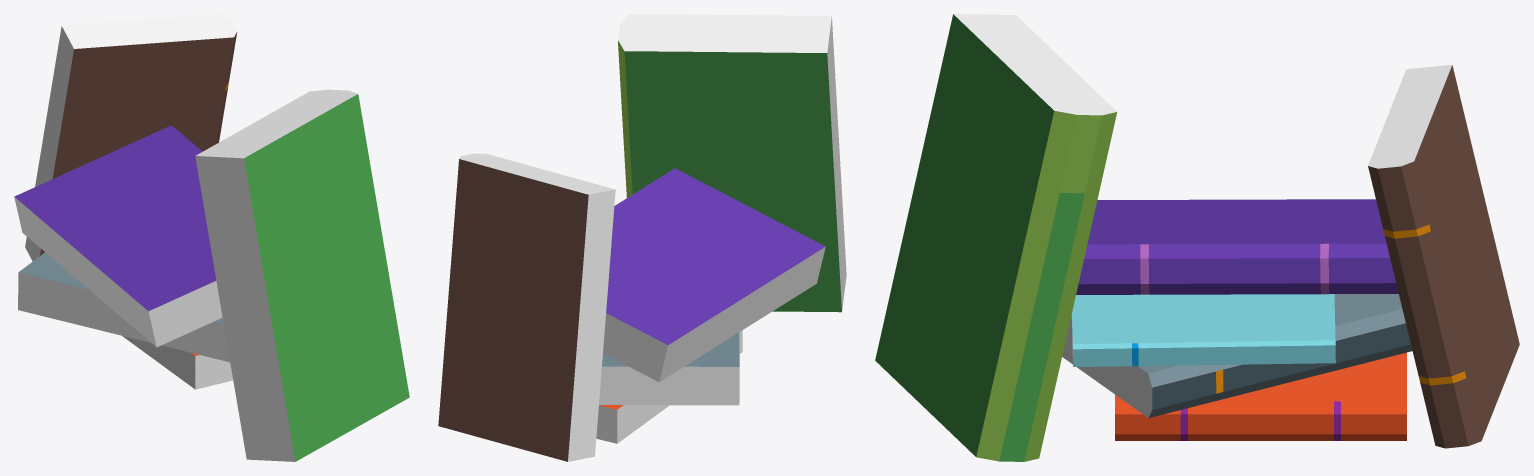
The picture shows the model from 3 angles, left to right: view 1: azimuth 30°, elevation 25°; view 2: azimuth 150°, elevation 25°; view 3: azimuth 270°, elevation 25°; orthographic projection. The views are drawn at different scales.
Parts seen in each view (by area): view 1: mesh_1923299085, mesh_1432794203, mesh_2081542149, mesh_281850904, mesh_1524145860; view 2: mesh_2081542149, mesh_1923299085, mesh_1432794203, mesh_281850904, mesh_1524145860; view 3: mesh_1923299085, mesh_2081542149, mesh_1432794203, mesh_1762944022, mesh_1524145860, mesh_281850904.
Part boxes in pixels (<box>): mesh_1923299085: <box>195,89,409,461</box>; mesh_1432794203: <box>14,125,222,347</box>; mesh_2081542149: <box>25,14,237,261</box>; mesh_281850904: <box>18,252,229,362</box>; mesh_1524145860: <box>122,336,233,389</box>; mesh_2081542149: <box>438,153,615,461</box>; mesh_1923299085: <box>618,14,846,312</box>; mesh_1432794203: <box>603,168,825,382</box>; mesh_281850904: <box>599,332,739,405</box>; mesh_1524145860: <box>596,330,742,443</box>; mesh_1923299085: <box>875,14,1117,461</box>; mesh_2081542149: <box>1368,64,1519,448</box>; mesh_1432794203: <box>1076,199,1398,294</box>; mesh_1762944022: <box>1072,294,1335,366</box>; mesh_1524145860: <box>1115,352,1406,440</box>; mesh_281850904: <box>1062,294,1412,417</box>.
Size of the model in its own units: 48 by 53.79 by 88.32.
